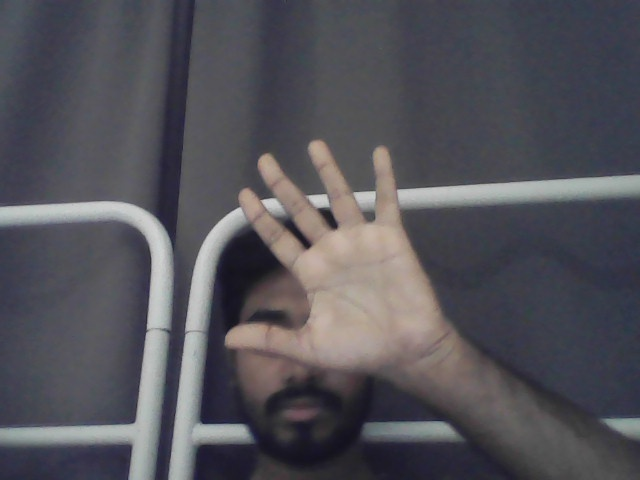hello: (223, 137, 448, 385)
